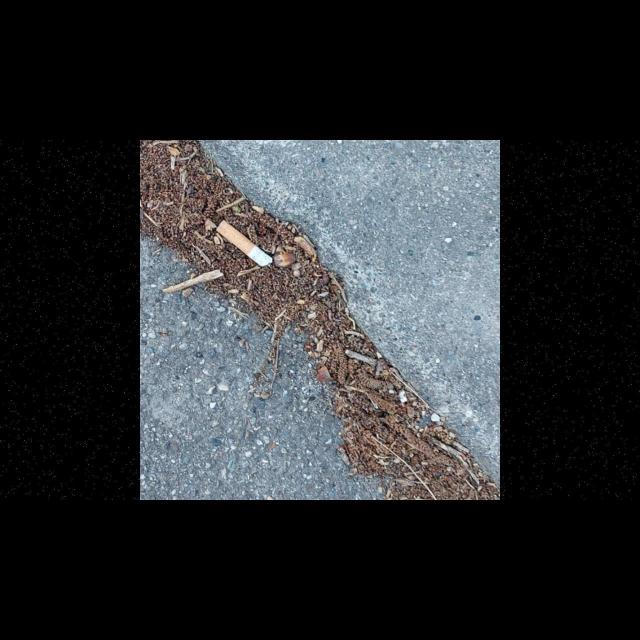cigarette: (216, 220, 273, 268)
